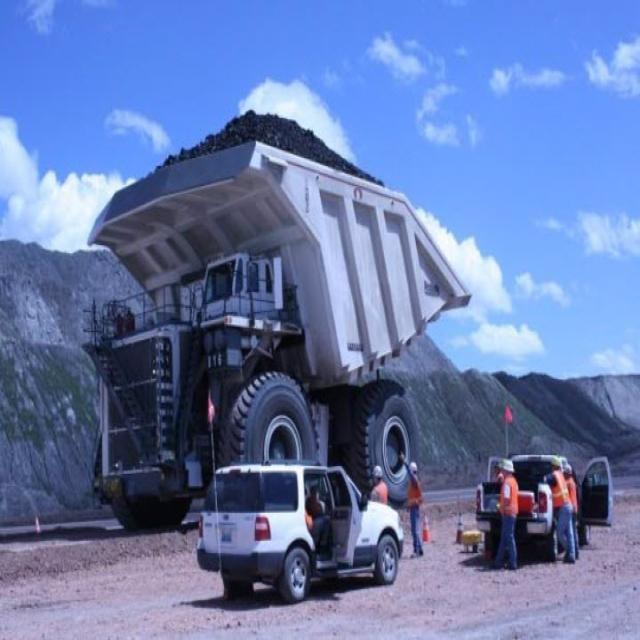dump_truck: (84, 92, 480, 556)
light_vehicle: (186, 428, 420, 598), (468, 420, 616, 573)
